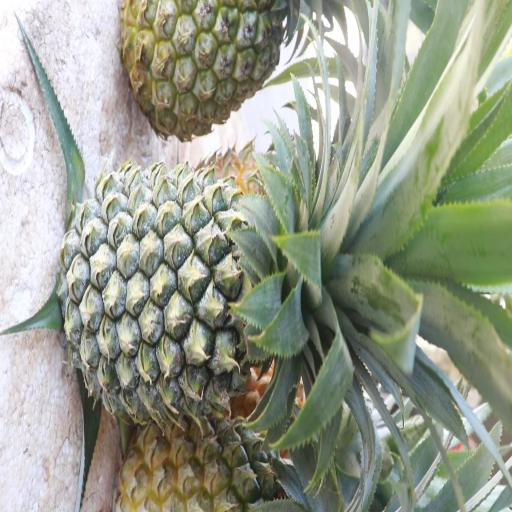------------------------------: (122, 0, 289, 139), (124, 409, 302, 512)
